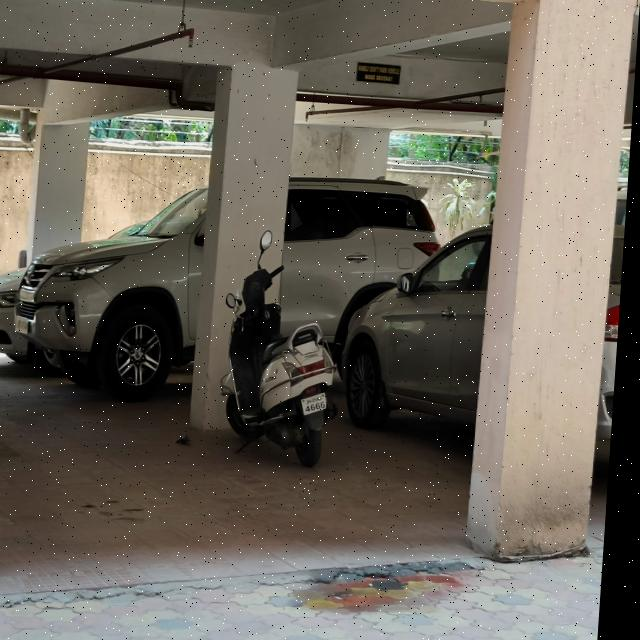bike: (209, 228, 359, 482)
car: (9, 172, 448, 412), (349, 207, 629, 491)
